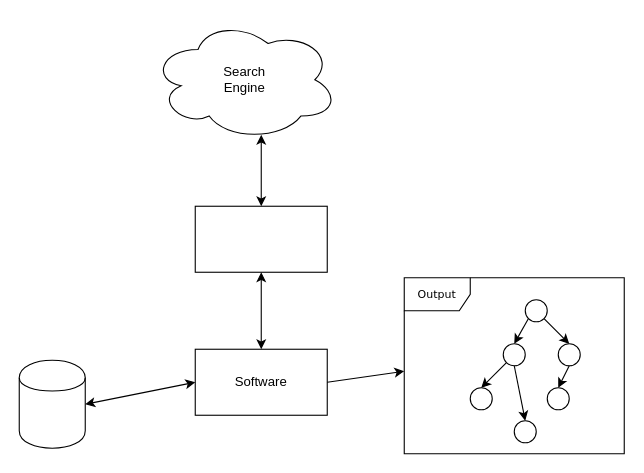
Some shapes in this 644 by 473 pixel diagram are drawn without their labels. Here are the shapes that lost their labels. From the top down, the centre of each, then its label:
At (x=260, y=238): "Web Driver".
At (x=51, y=403): "Database".
